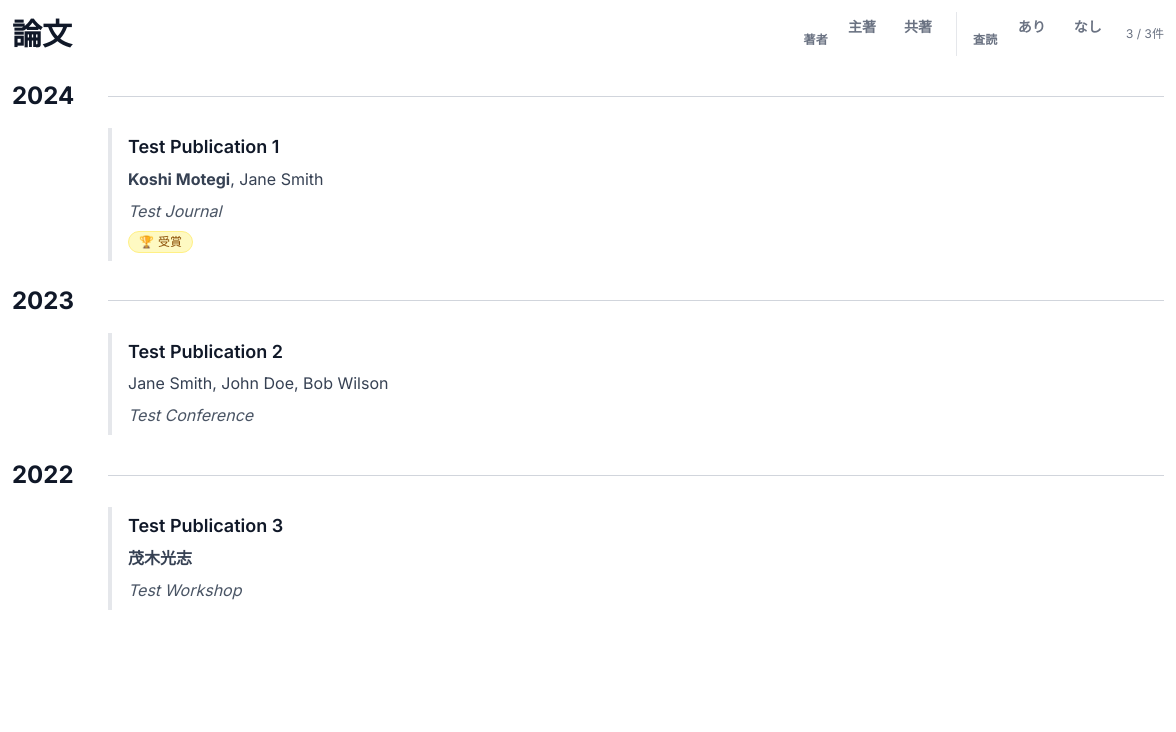
Test: PublicationList › displays empty state when no publications match filter
// Click on non-peer-reviewed filter - should show only 1 publication
Click the button "なし" at (1088, 34), box [1066,12,1110,56]
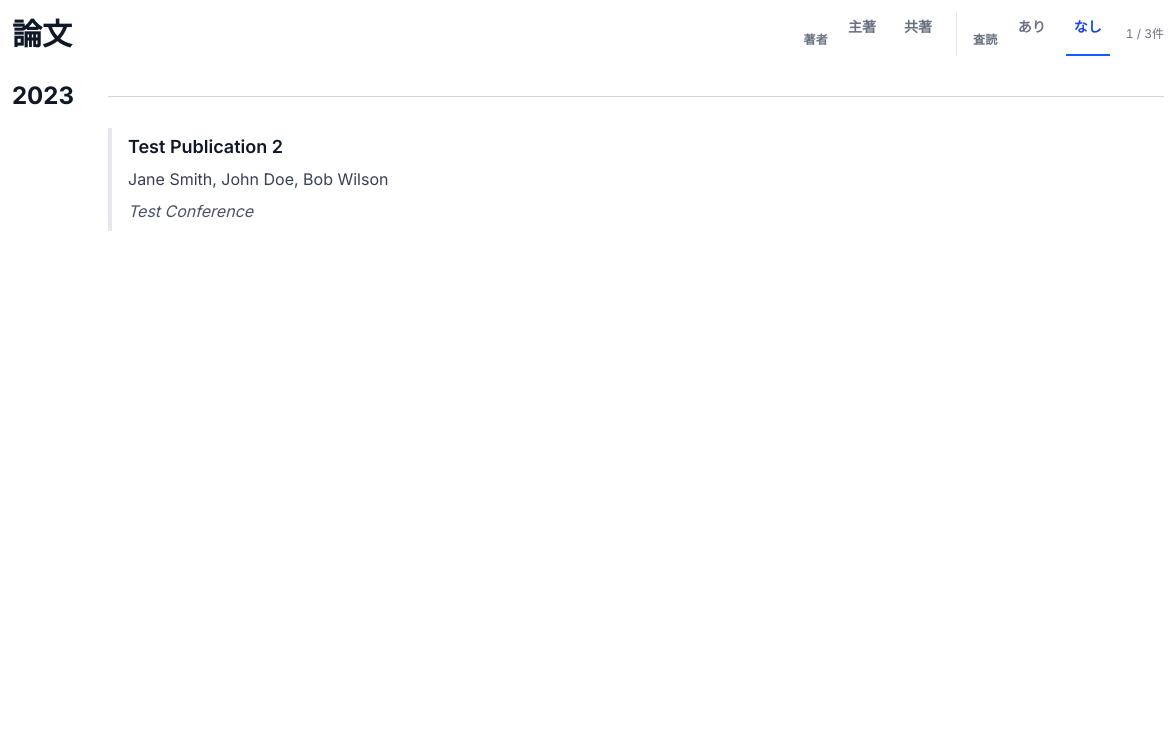
Now the button "Test Publication 1" is gone
Now the button "Test Publication 3" is gone
Now the text "1 / 3件" is shown, box [1126,26,1164,42]
